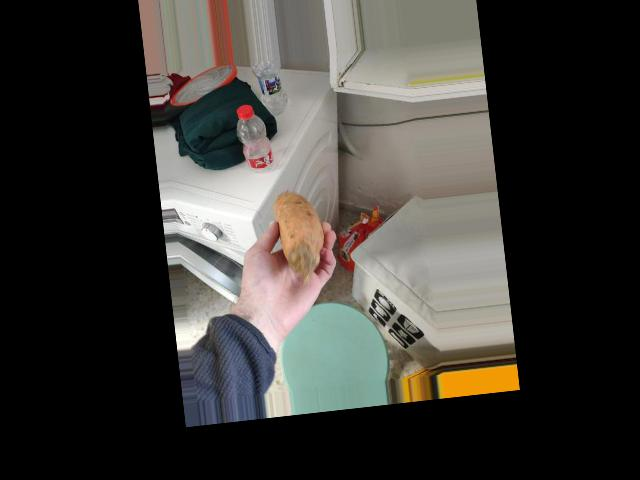sweet_potato: (267, 182, 323, 290)
